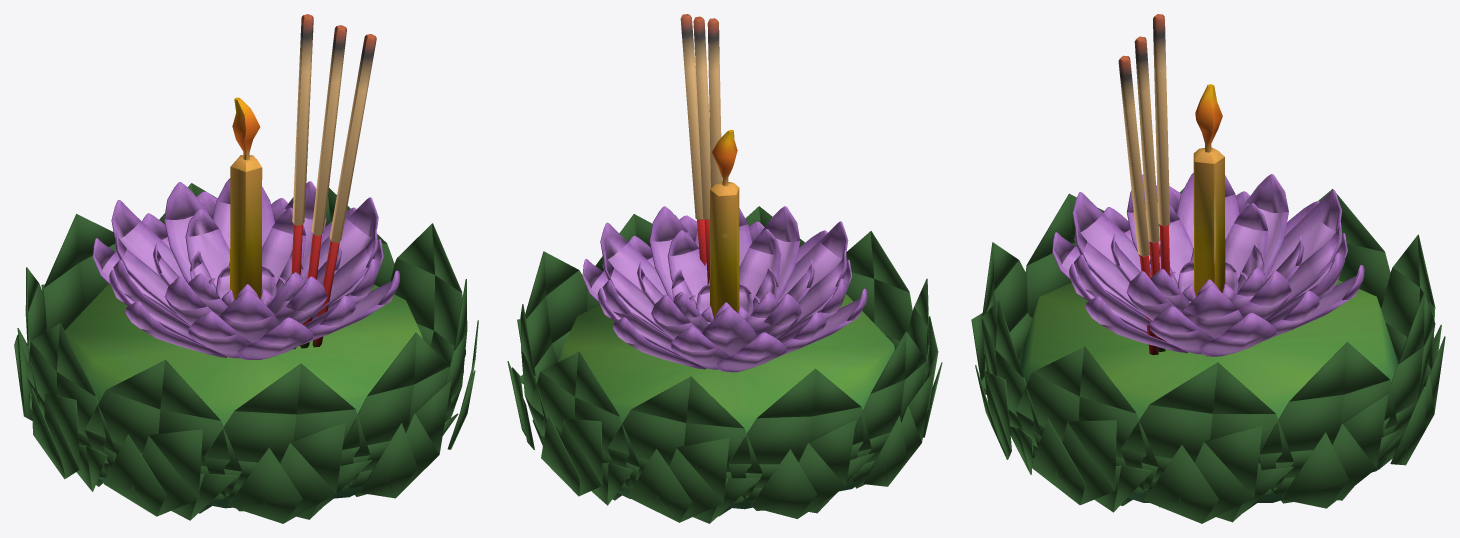
3 renders of one model, left to right at view 1: azimuth 30°, elevation 25°; view 2: azimuth 150°, elevation 25°; view 3: azimuth 270°, elevation 25°, orthographic. The views are drawn at different scales.
Parts seen in each view (by area): view 1: Flower_Lotus_Stylized_Lotus_0_003, Flower_017_Base_Material_0, Flower_024_Base_Material_0_001_017, Flower_024_Base_Material_0_001_018, Object_0_001, Flower_024_Base_Material_0_001_017_001, Flower_024_Base_Material_0_001_014, Flower_024_Base_Material_0_001_012, Flower_024_Base_Material_0_001_015, Flower_Lotus_Stylized_Lotus_0_007, Flower_Lotus_Stylized_Lotus_0_008, Flower_024_Base_Material_0_001_013 (+5 smaller); view 2: Flower_Lotus_Stylized_Lotus_0_003, Flower_017_Base_Material_0, Flower_024_Base_Material_0_001_015, Flower_024_Base_Material_0_001_013, Object_0_001, Flower_024_Base_Material_0_001_016, Flower_024_Base_Material_0_001_014, Flower_024_Base_Material_0_001_012, Flower_024_Base_Material_0_001_017, Flower_Lotus_Stylized_Lotus_0_006, Flower_Lotus_Stylized_Lotus_0_005, Flower_024_Base_Material_0_001_011 (+6 smaller); view 3: Flower_Lotus_Stylized_Lotus_0_003, Flower_017_Base_Material_0, Flower_024_Base_Material_0_001_012, Object_0_001, Flower_024_Base_Material_0_001_010, Flower_024_Base_Material_0_001_011, Flower_024_Base_Material_0_001_016, Flower_024_Base_Material_0_001_017_001, Flower_024_Base_Material_0_001_015, Flower_024_Base_Material_0_001_017, Flower_Lotus_Stylized_Lotus_0_002, Flower_024_Base_Material_0_001_013 (+5 smaller).
Part boxes in pixels (x1,y1,x2,y2): Flower_Lotus_Stylized_Lotus_0_003: (111, 178, 380, 342); Flower_017_Base_Material_0: (64, 284, 422, 508); Flower_024_Base_Material_0_001_017: (204, 363, 371, 523); Flower_024_Base_Material_0_001_018: (84, 360, 241, 520); Object_0_001: (230, 14, 376, 349); Flower_024_Base_Material_0_001_017_001: (340, 332, 458, 498); Flower_024_Base_Material_0_001_014: (27, 323, 115, 491); Flower_024_Base_Material_0_001_012: (390, 223, 465, 367); Flower_024_Base_Material_0_001_015: (41, 214, 116, 330); Flower_Lotus_Stylized_Lotus_0_007: (125, 301, 251, 358); Flower_Lotus_Stylized_Lotus_0_008: (237, 295, 355, 359); Flower_024_Base_Material_0_001_013: (14, 267, 46, 420); Flower_Lotus_Stylized_Lotus_0_003: (600, 206, 848, 355); Flower_017_Base_Material_0: (557, 294, 894, 509); Flower_024_Base_Material_0_001_015: (607, 376, 762, 523); Flower_024_Base_Material_0_001_013: (728, 368, 874, 518); Object_0_001: (680, 14, 739, 317); Flower_024_Base_Material_0_001_016: (531, 351, 639, 505); Flower_024_Base_Material_0_001_014: (850, 331, 932, 488); Flower_024_Base_Material_0_001_012: (517, 251, 587, 384); Flower_024_Base_Material_0_001_017: (846, 231, 912, 349); Flower_Lotus_Stylized_Lotus_0_006: (613, 317, 729, 369); Flower_Lotus_Stylized_Lotus_0_005: (716, 312, 826, 372); Flower_024_Base_Material_0_001_011: (507, 304, 546, 449); Flower_Lotus_Stylized_Lotus_0_003: (1072, 173, 1345, 337); Flower_017_Base_Material_0: (1019, 280, 1398, 502); Flower_024_Base_Material_0_001_012: (1120, 362, 1293, 523); Object_0_001: (1118, 14, 1225, 355); Flower_024_Base_Material_0_001_010: (1016, 346, 1158, 512); Flower_024_Base_Material_0_001_011: (1259, 342, 1402, 508); Flower_024_Base_Material_0_001_016: (1377, 293, 1445, 469); Flower_024_Base_Material_0_001_017_001: (975, 300, 1041, 474); Flower_024_Base_Material_0_001_015: (1381, 234, 1441, 394); Flower_024_Base_Material_0_001_017: (971, 242, 1031, 394); Flower_Lotus_Stylized_Lotus_0_002: (1085, 296, 1213, 354); Flower_024_Base_Material_0_001_013: (1318, 189, 1390, 310).
Size of the model in its own units: 0.1951 by 0.2011 by 0.1953.
Materials: 20 (19 with a texture image).
